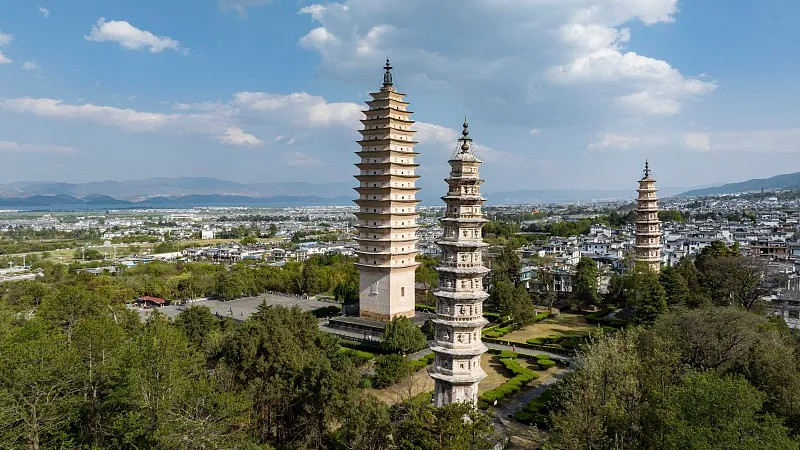ThreePagoda: (353, 58, 423, 319)
